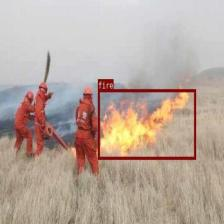fire: (97, 88, 196, 158)
